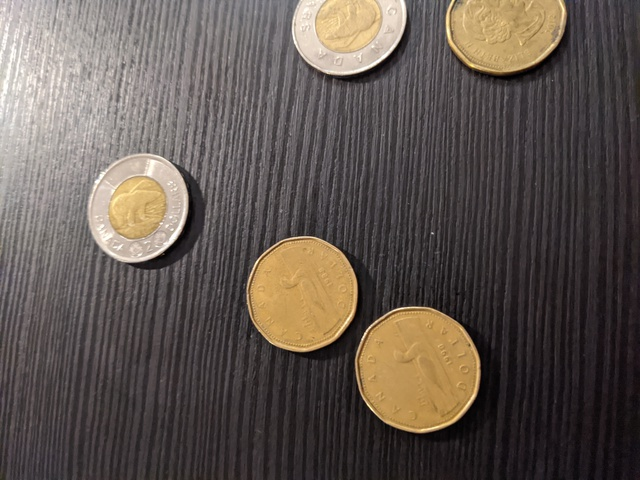loonie: (346, 292, 499, 441), (237, 222, 359, 350), (434, 0, 580, 76)
twonie: (278, 0, 415, 100), (85, 157, 202, 271)
